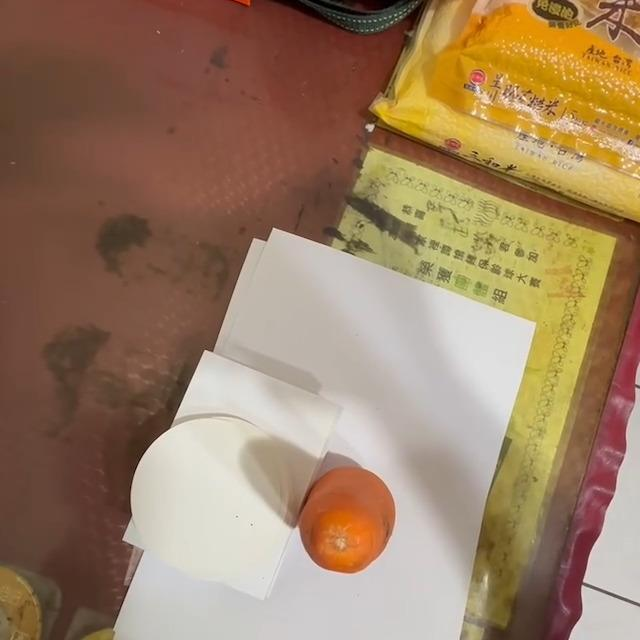carrot: (301, 467, 397, 574)
